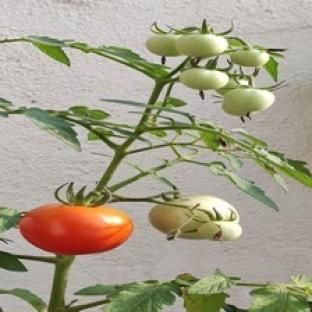Tomato: (20, 204, 133, 254), (150, 195, 239, 239), (222, 88, 274, 116), (176, 34, 228, 58), (180, 67, 229, 90), (145, 34, 181, 57), (198, 222, 242, 240), (230, 49, 270, 66), (216, 80, 247, 94)
